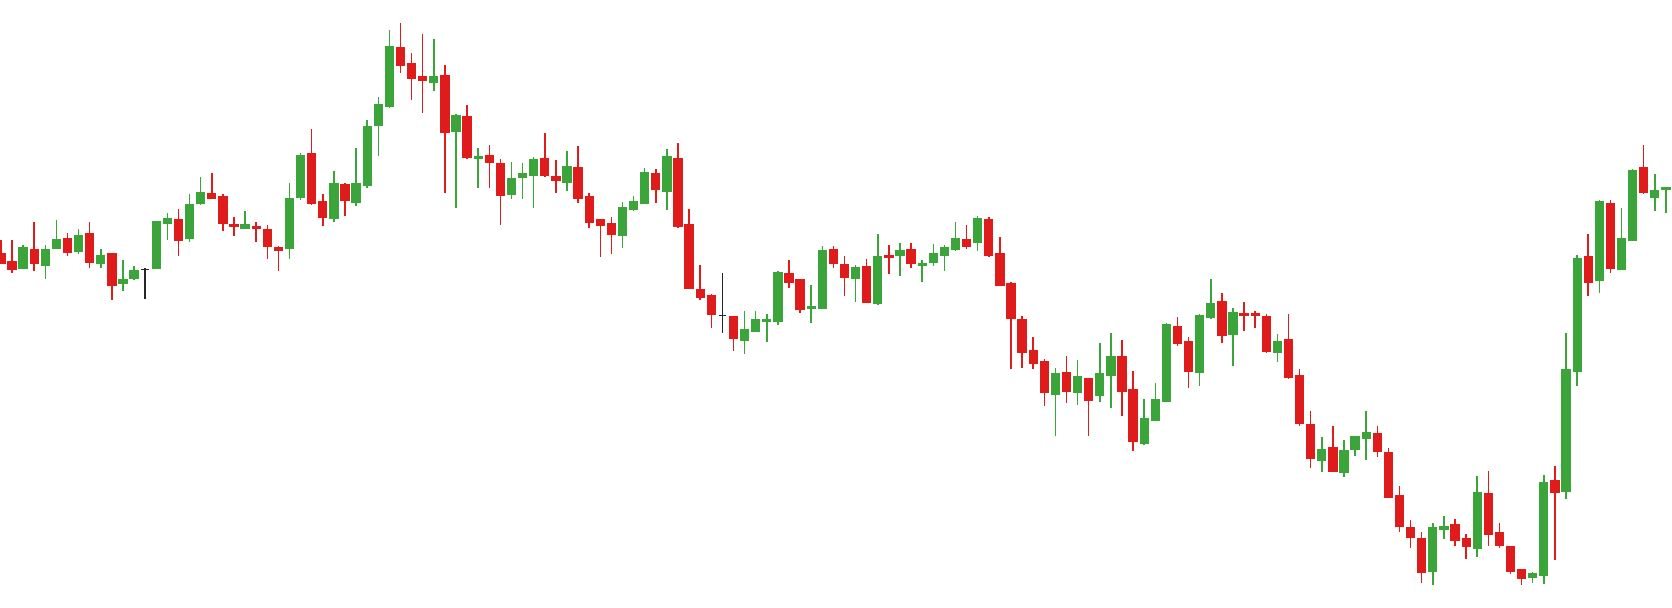buy: (1416, 493, 1552, 591), (1084, 363, 1151, 455)
